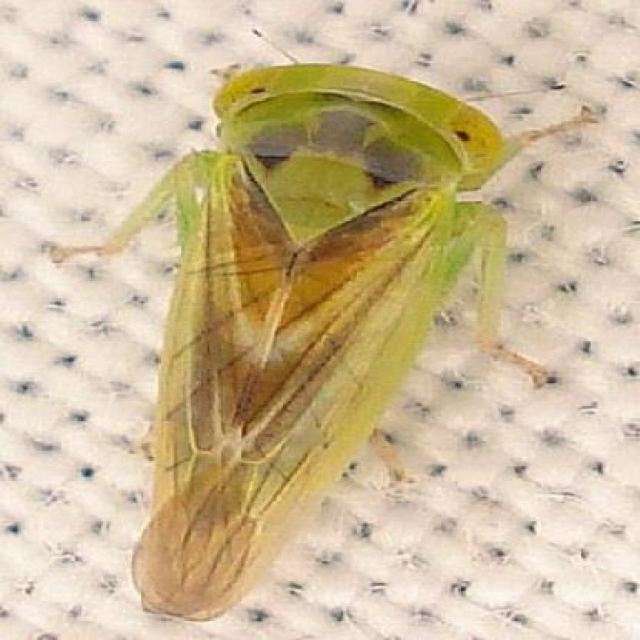green-leafhopper: (106, 49, 549, 618)
